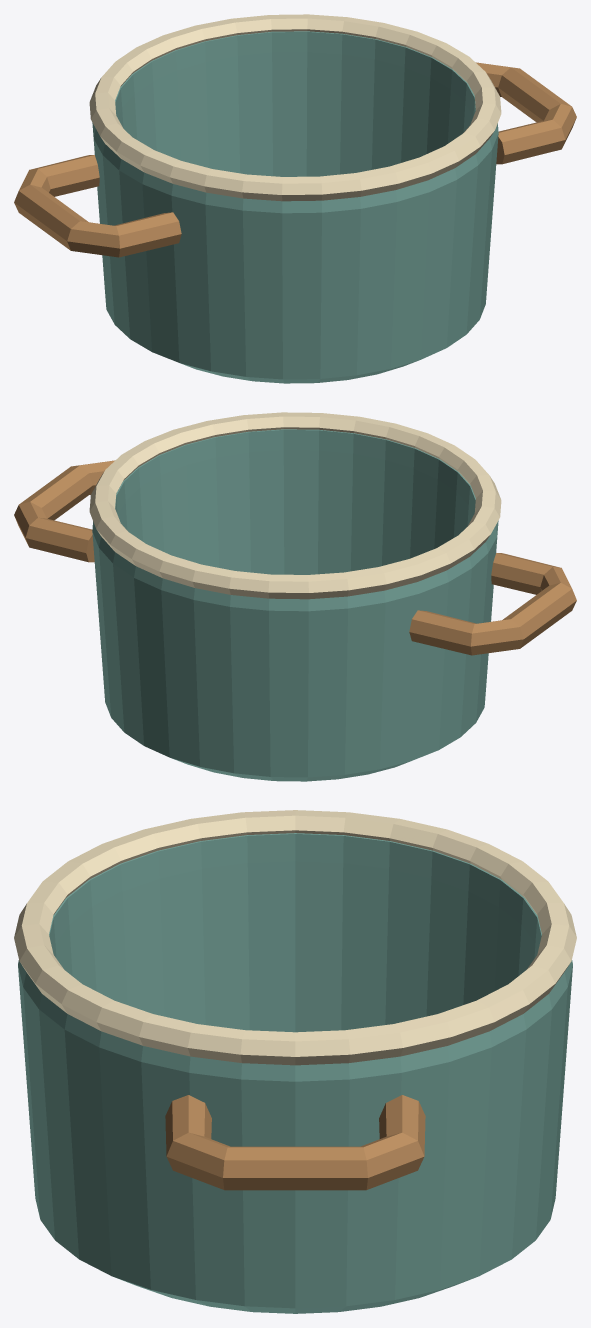
The picture shows the model from 3 angles, top to bottom: view 1: azimuth 30°, elevation 25°; view 2: azimuth 150°, elevation 25°; view 3: azimuth 270°, elevation 25°; orthographic projection. The views are drawn at different scales.
Parts seen in each view (by area): view 1: kitchen-stockpot-01; view 2: kitchen-stockpot-01; view 3: kitchen-stockpot-01.
Boxes of the visible parts, bbox=[...] form: kitchen-stockpot-01: bbox=[14, 14, 576, 383]; kitchen-stockpot-01: bbox=[14, 412, 576, 781]; kitchen-stockpot-01: bbox=[14, 810, 576, 1313].
Bounding box in the file's own units: 0.4135 × 0.168 × 0.29.
